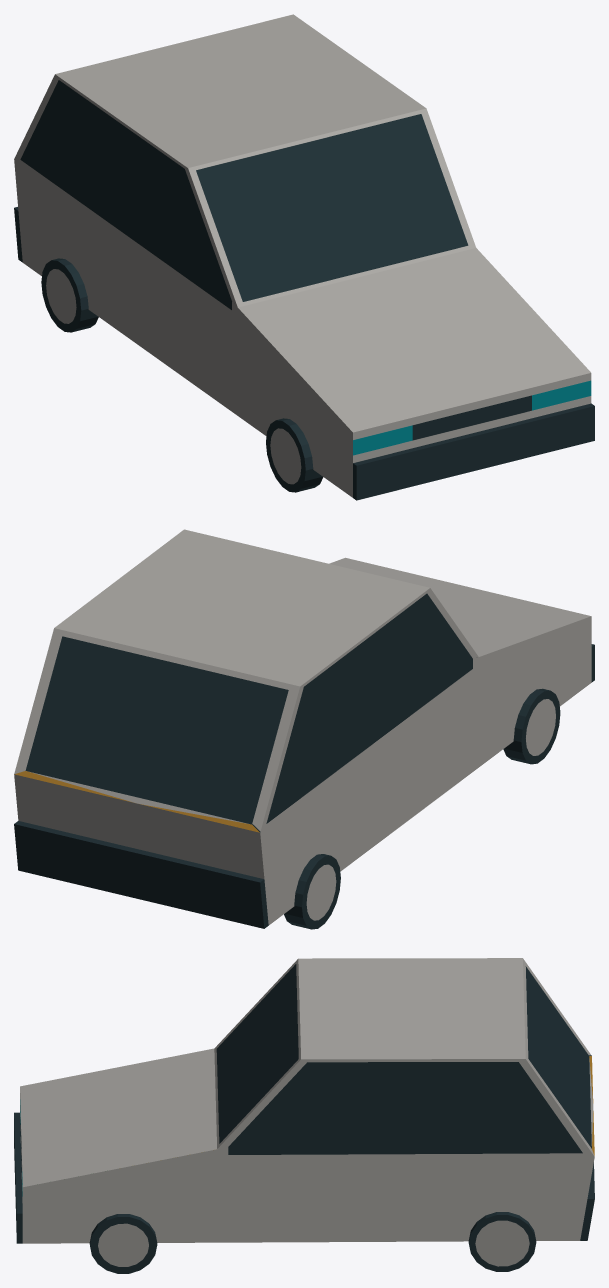
The model's file is car.gltf.
3 renders of one model, top to bottom at view 1: azimuth 30°, elevation 25°; view 2: azimuth 150°, elevation 25°; view 3: azimuth 270°, elevation 25°, orthographic. The views are drawn at different scales.
Parts seen in each view (by area): view 1: CAR_03_1_2001; view 2: CAR_03_1_2001; view 3: CAR_03_1_2001.
Part boxes in pixels (box(x1,y1,x2,y2)): CAR_03_1_2001: box(14, 14, 594, 500); CAR_03_1_2001: box(14, 529, 594, 929); CAR_03_1_2001: box(14, 958, 594, 1273).
Bounding box in the file's own units: 2.35 × 2.11 × 5.27.
Materials: 1 (1 with a texture image).
